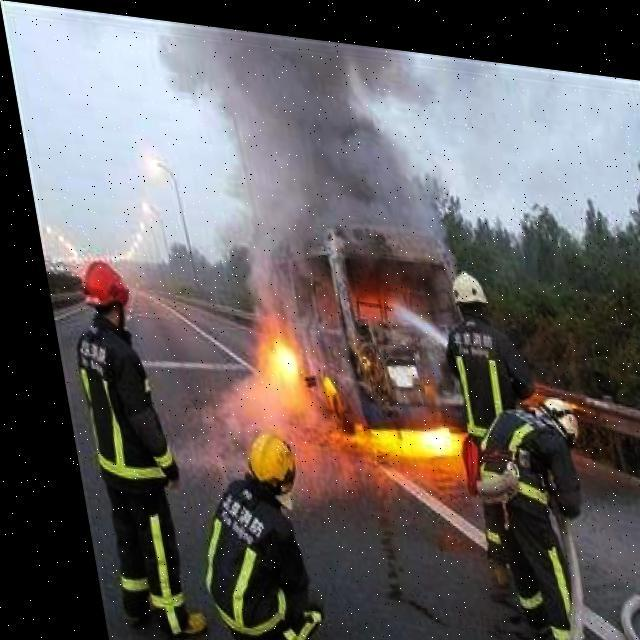Fire: (240, 293, 456, 457)
